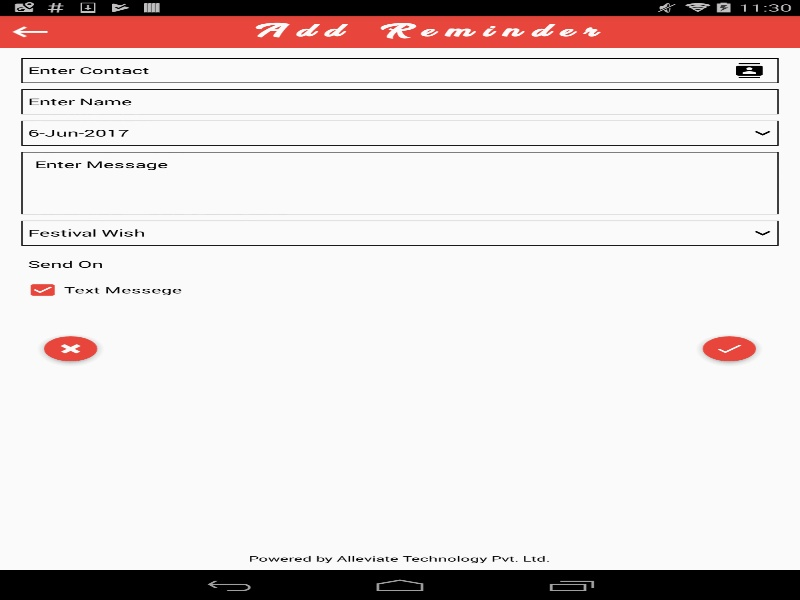Button: (686, 325, 772, 372), (28, 325, 113, 372)
Input: (21, 151, 778, 214), (21, 58, 778, 83), (21, 89, 778, 114)
